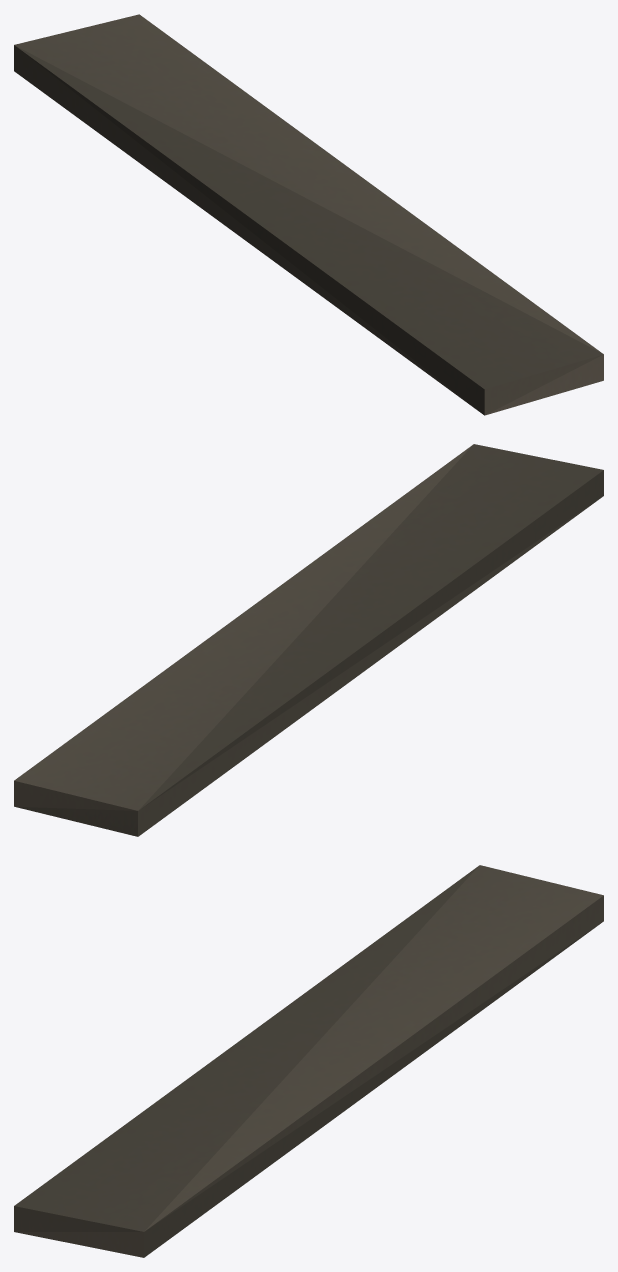
File: Wood_1C_LOD.fbx
3 views of the same model, one above another, from view 1: azimuth 30°, elevation 25°; view 2: azimuth 150°, elevation 25°; view 3: azimuth 330°, elevation 25° (orthographic).
Parts seen in each view (by area): view 1: pCube992; view 2: pCube992; view 3: pCube992.
Part boxes in pixels (x1,y1,x2,y2): pCube992: (14,14,603,415); pCube992: (14,444,603,836); pCube992: (14,865,603,1257).
Bounding box in the file's own units: 0.5 × 0.1 × 3.25.
